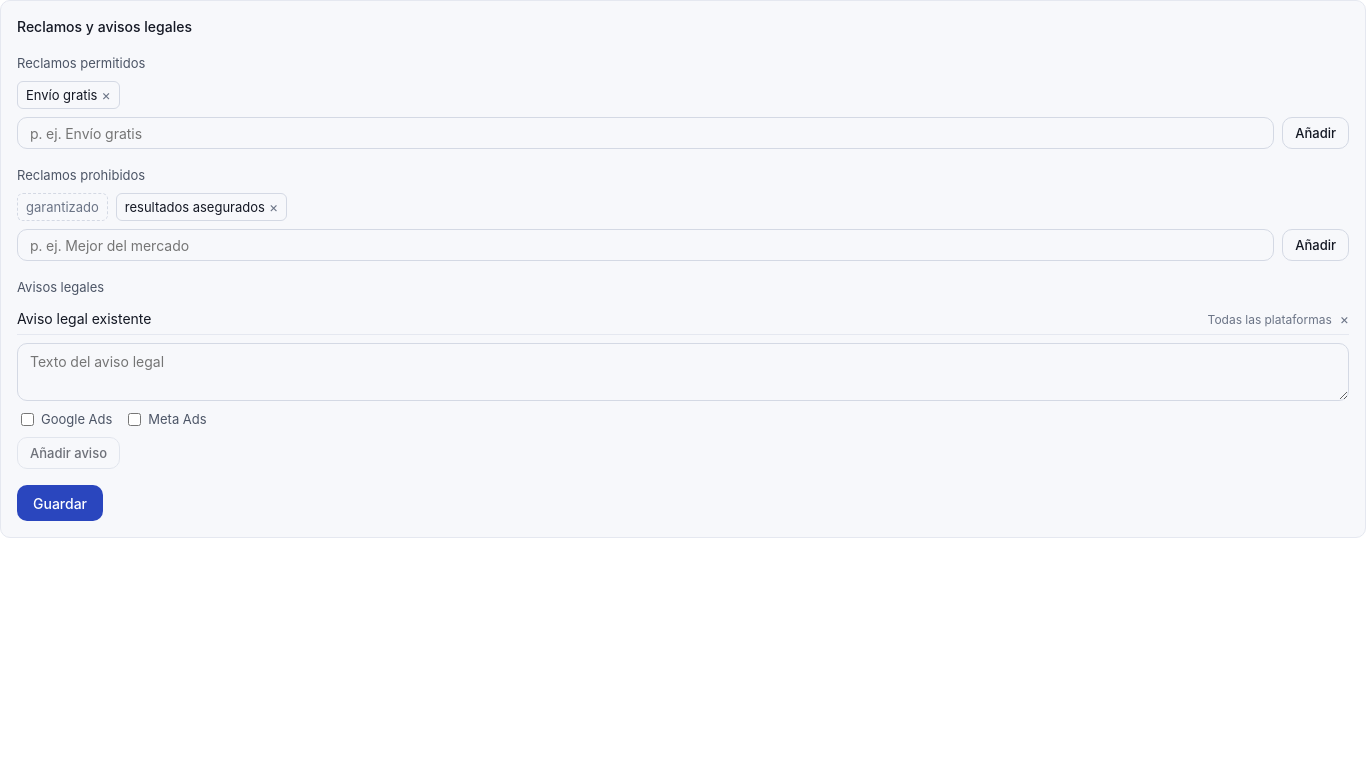
Scenario: BrandClaimsEditor › añadir un reclamo permitido lo agrega a la lista, y quitarlo lo elimina
Type "Atención personalizada" into the field labelled "Reclamos permitidos" at (646, 133), box x1=17 y1=117 x2=1274 y2=149
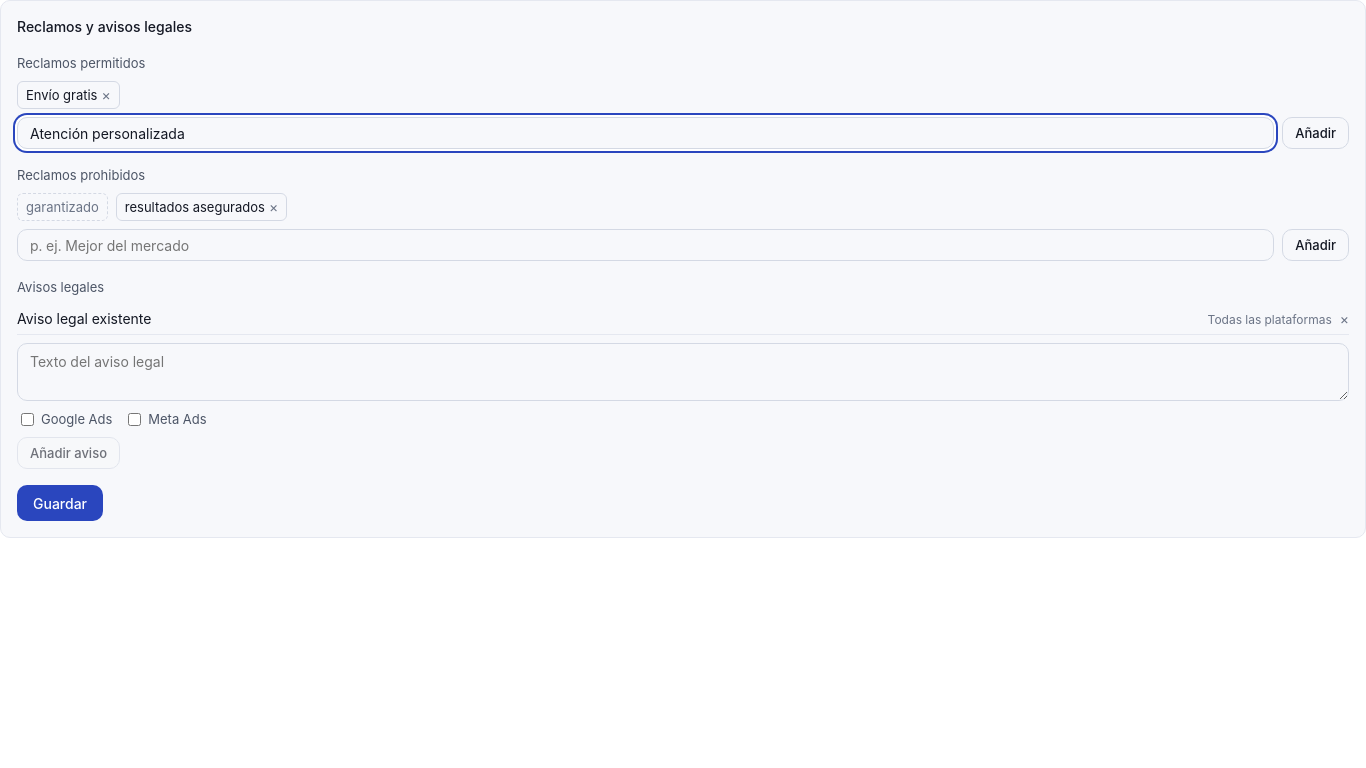
Click the 1st button "Añadir" at (1316, 133), box x1=1282 y1=117 x2=1349 y2=149
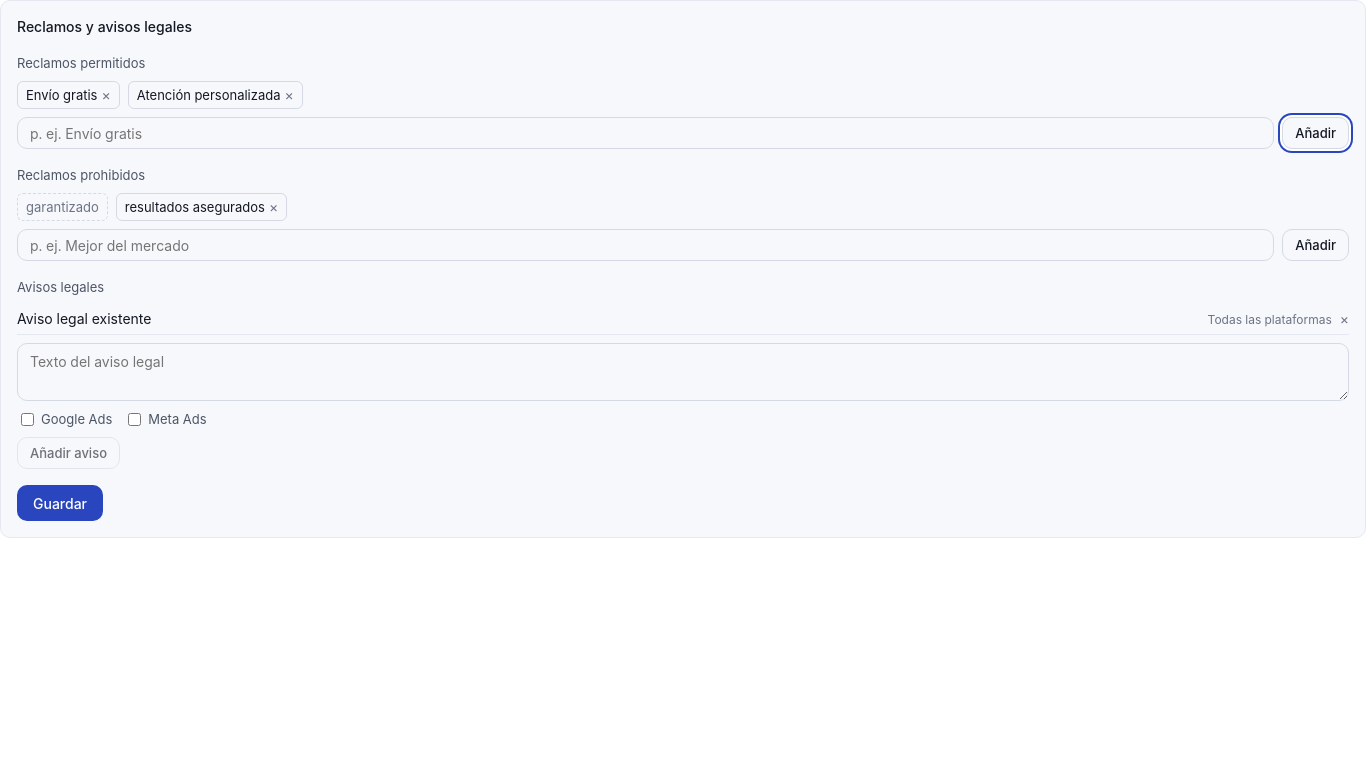
Expected: the list item "Atención personalizada" is shown, x1=137 y1=87 x2=281 y2=103
Click the button named "Quitar Atención personalizada" at (289, 95), box x1=284 y1=88 x2=294 y2=102
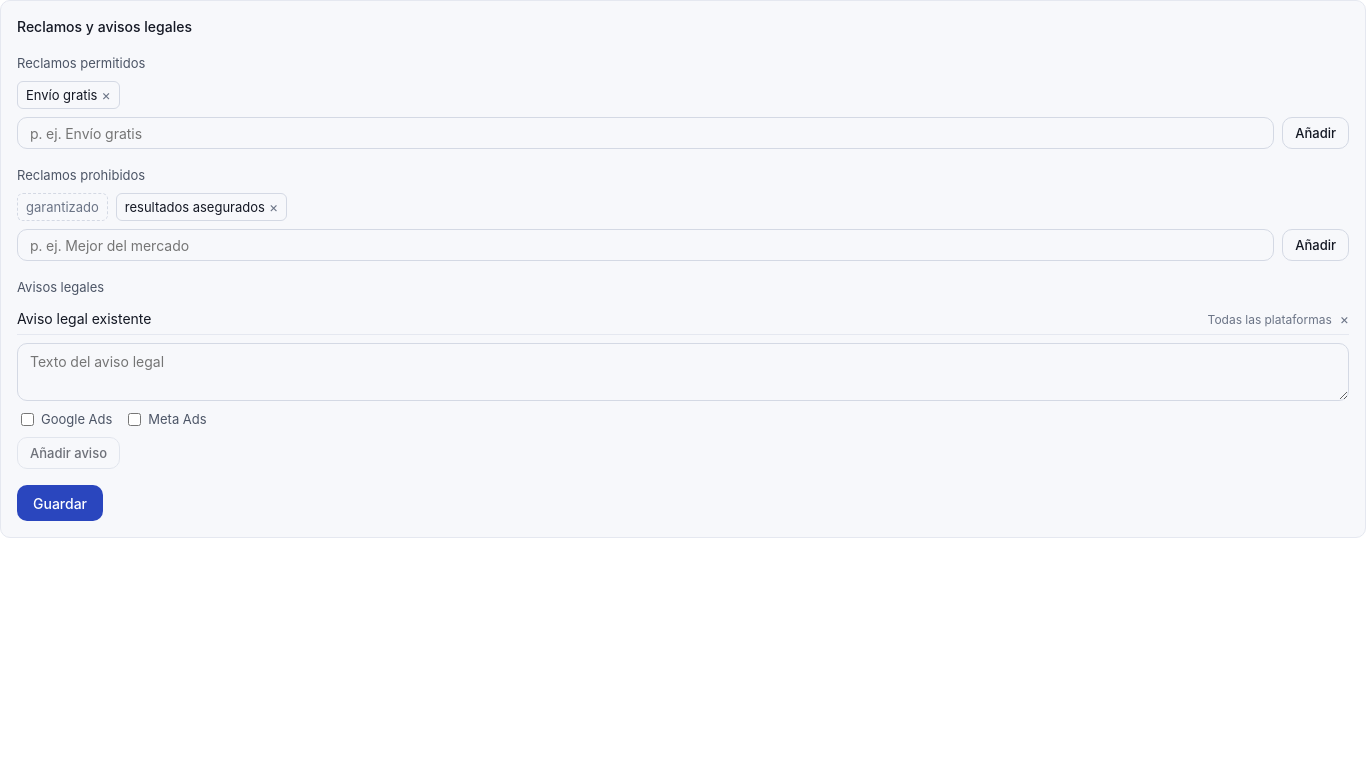
Expected: the list item "Atención personalizada" is gone
